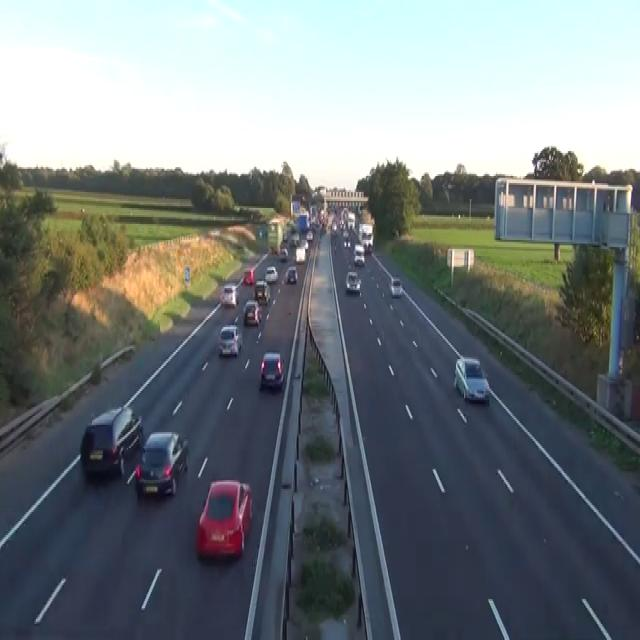Car: (79, 406, 143, 478), (196, 478, 252, 560), (134, 430, 189, 498), (453, 356, 490, 404), (259, 350, 284, 390), (217, 324, 242, 356), (219, 284, 239, 308), (243, 299, 261, 325), (254, 279, 270, 306), (345, 270, 361, 294), (389, 275, 402, 297), (353, 243, 365, 265), (264, 265, 278, 283), (285, 265, 297, 283), (243, 268, 254, 284), (295, 247, 305, 263), (290, 233, 299, 247), (279, 247, 288, 260), (363, 240, 372, 252), (354, 244, 364, 254), (331, 222, 338, 236), (208, 230, 220, 238), (301, 238, 308, 251), (269, 244, 277, 254), (258, 226, 266, 236), (306, 229, 313, 240), (343, 238, 350, 249), (282, 231, 288, 242), (321, 222, 327, 233), (358, 222, 364, 233), (367, 242, 372, 252), (342, 228, 348, 236), (333, 242, 337, 252)
